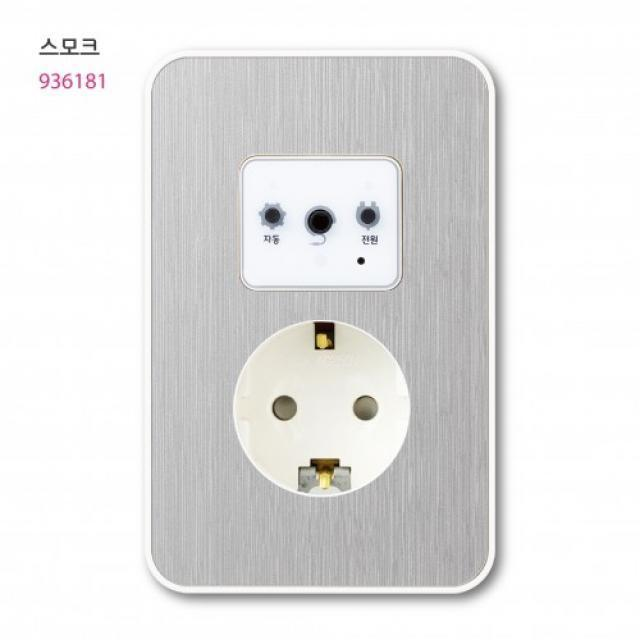typeb: (128, 40, 518, 607)
